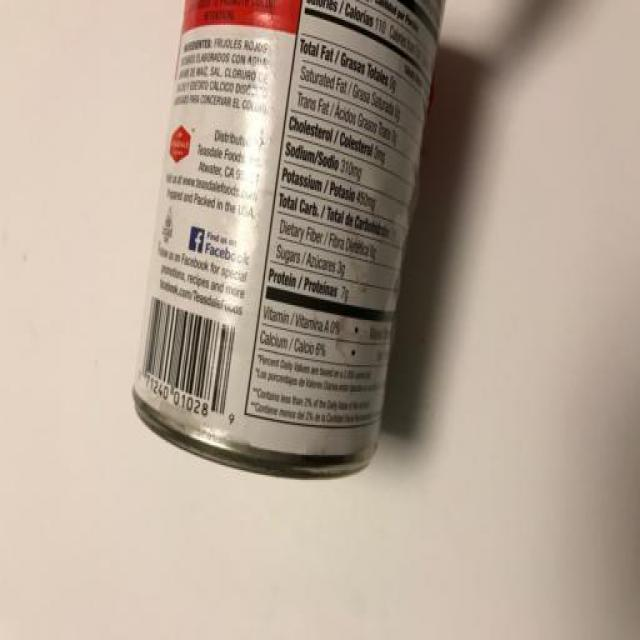metel: (126, 1, 455, 503)
